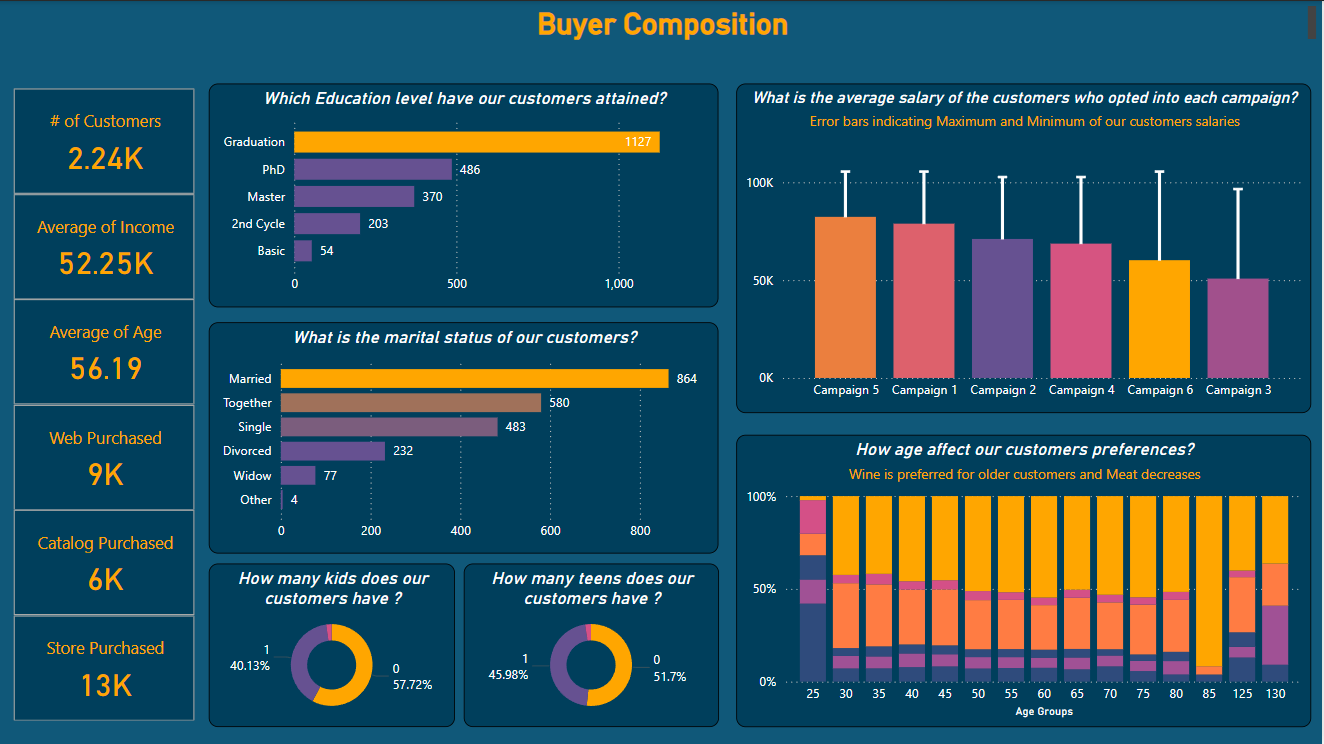

What the dashboard file says about the page in this screenshot:
{"tool":"powerbi","page":{"name":"Buyer Composition","canvas":[1280,720],"ordinal":1},"visuals":[{"type":"clusteredBarChart","title":"Which Education level have our customers attained?","fields":{"Category":["1 2 marketmindz_research_data.Education"],"Y":["CountNonNull(1 2 marketmindz_research_data.ID)"]},"box":[202.2,79.9,493.9,216.7],"z":0},{"type":"clusteredBarChart","title":"What is the marital status of our customers?","fields":{"Y":["CountNonNull(1 2 marketmindz_research_data.ID)"],"Category":["1 2 marketmindz_research_data.Marital_Status"]},"box":[202.2,311.1,493.9,223.9],"z":1000},{"type":"donutChart","title":"How many kids does our customers have ?","fields":{"Y":["CountNonNull(1 2 marketmindz_research_data.ID)"],"Category":["1 2 marketmindz_research_data.Kidhome"]},"box":[202.2,544.7,238.5,158.6],"z":2000},{"type":"donutChart","title":"How many teens does our customers have ?","fields":{"Y":["CountNonNull(1 2 marketmindz_research_data.ID)"],"Category":["1 2 marketmindz_research_data.Teenhome"]},"box":[449.1,544.7,246.9,158.6],"z":3000},{"type":"clusteredColumnChart","title":"What is the average salary of the customers who opted into each campaign?","fields":{"Y":["Avg(1 2 marketmindz_research_data. Income )"],"Category":["Campaigns.Campaign"]},"box":[713,79.9,556.8,319.6],"z":4000},{"type":"hundredPercentStackedColumnChart","title":"How age affect our customers preferences?","fields":{"Series":["Products.Product"],"Y":["Sum(Products.Sales_Amount)"],"Category":["1 2 marketmindz_research_data.Age (bins)"]},"box":[713,420,556.8,283.3],"z":5000},{"type":"cardVisual","fields":{"Data":["CountNonNull(1 2 marketmindz_research_data.ID)","Avg(1 2 marketmindz_research_data. Income )","Avg(1 2 marketmindz_research_data.Age)","Sum(1 2 marketmindz_research_data.Purchased-Web)","Sum(1 2 marketmindz_research_data.Purchased-NumCatalog)","Sum(1 2 marketmindz_research_data.Purchased-Store)"]},"box":[8.5,79.9,185.2,623.4],"z":6000},{"type":"textbox","box":[12.1,0,1267.4,42.4],"z":7000}]}

Visuals, with their boxes in screenshot pixels (x1, y1, x2, y2), scaled from the page's 1280x720 canvas onto the 1324x744 screenshot:
"Which Education level have our customers attained?" clusteredBarChart: {"left": 209, "top": 83, "right": 720, "bottom": 306}
"What is the marital status of our customers?" clusteredBarChart: {"left": 209, "top": 321, "right": 720, "bottom": 553}
"How many kids does our customers have ?" donutChart: {"left": 209, "top": 563, "right": 456, "bottom": 727}
"How many teens does our customers have ?" donutChart: {"left": 465, "top": 563, "right": 720, "bottom": 727}
"What is the average salary of the customers who opted into each campaign?" clusteredColumnChart: {"left": 738, "top": 83, "right": 1313, "bottom": 413}
"How age affect our customers preferences?" hundredPercentStackedColumnChart: {"left": 738, "top": 434, "right": 1313, "bottom": 727}
cardVisual - CountNonNull(1 2 marketmindz_research_data.ID) x Avg(1 2 marketmindz_research_data. Income ): {"left": 9, "top": 83, "right": 200, "bottom": 727}
textbox: {"left": 13, "top": 0, "right": 1323, "bottom": 44}
